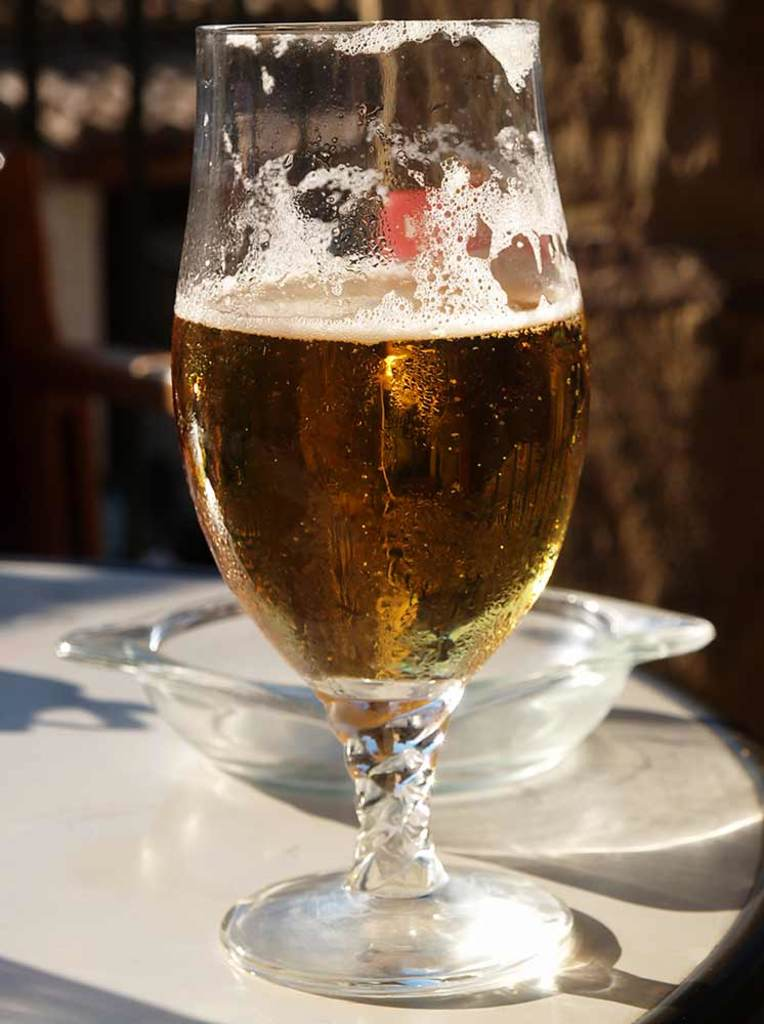Beer: (172, 271, 588, 689)
